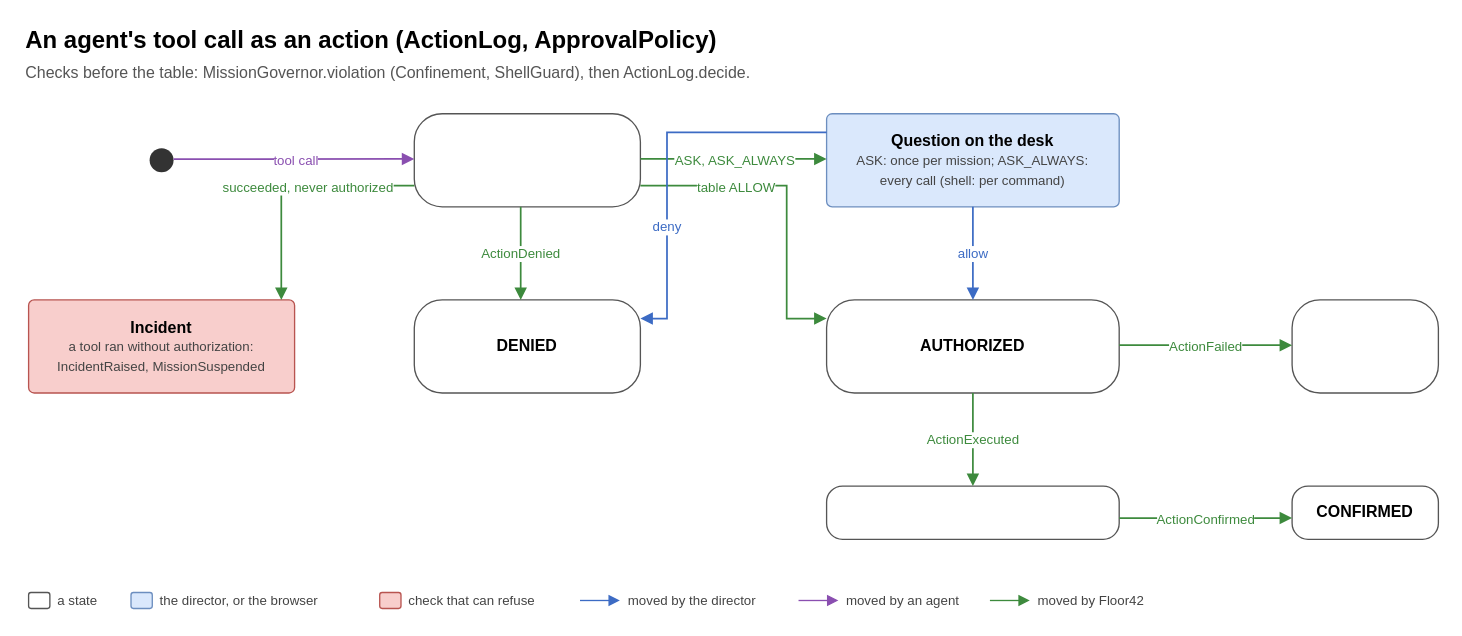
The diagram is 1462 pixels wide and 636 high, and some of its shapes have lost their labels. Here are the shapes that lost their labels. From the top down, the centre of each, then its label:
At point (526, 159): "REQUESTED ActionRequested at the hook".
At point (1364, 346): "FAILED".
At point (972, 512): "EXECUTED".
